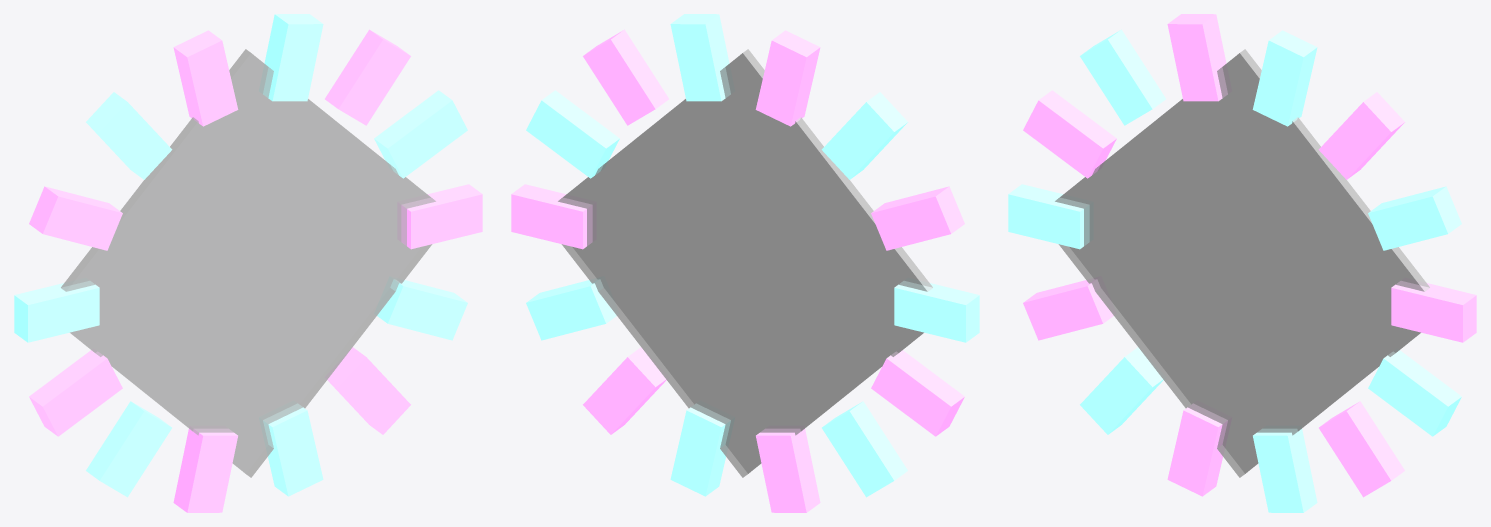
The model's file is FXPortal.fbx.
3 views of the same model, side by side, from view 1: azimuth 30°, elevation 25°; view 2: azimuth 150°, elevation 25°; view 3: azimuth 330°, elevation 25° (orthographic).
Visible parts, largest first — view 1: FX Portal_body_14, FX Portal_body_8, FX Portal_body_1, FX Portal_body_3, FX Portal_body_10, FX Portal_body_2, FX Portal_body_9, FX Portal_body_7, FX Portal_body_0, FX Portal_body_4, FX Portal_body_11, FX Portal_body_6 (+3 smaller); view 2: FX Portal_body_14, FX Portal_body_8, FX Portal_body_1, FX Portal_body_3, FX Portal_body_10, FX Portal_body_2, FX Portal_body_9, FX Portal_body_7, FX Portal_body_0, FX Portal_body_4, FX Portal_body_11, FX Portal_body_6 (+3 smaller); view 3: FX Portal_body_14, FX Portal_body_13, FX Portal_body_6, FX Portal_body_4, FX Portal_body_11, FX Portal_body_12, FX Portal_body_5, FX Portal_body_0, FX Portal_body_7, FX Portal_body_3, FX Portal_body_10, FX Portal_body_1 (+3 smaller).
Part boxes in pixels (x1,y1,x2,y2): FX Portal_body_14: (61, 49, 435, 477); FX Portal_body_8: (29, 349, 122, 436); FX Portal_body_1: (374, 90, 467, 178); FX Portal_body_3: (259, 14, 323, 101); FX Portal_body_10: (173, 426, 237, 512); FX Portal_body_2: (325, 29, 410, 125); FX Portal_body_9: (86, 401, 171, 497); FX Portal_body_7: (14, 278, 99, 342); FX Portal_body_0: (398, 184, 482, 249); FX Portal_body_4: (173, 30, 238, 126); FX Portal_body_11: (259, 401, 323, 496); FX Portal_body_6: (29, 186, 122, 250); FX Portal_body_14: (558, 49, 932, 477); FX Portal_body_8: (871, 349, 964, 436); FX Portal_body_1: (526, 90, 619, 178); FX Portal_body_3: (670, 14, 734, 101); FX Portal_body_10: (756, 426, 820, 512); FX Portal_body_2: (583, 29, 668, 125); FX Portal_body_9: (822, 401, 907, 497); FX Portal_body_7: (894, 278, 979, 342); FX Portal_body_0: (511, 184, 595, 249); FX Portal_body_4: (755, 30, 820, 126); FX Portal_body_11: (670, 401, 734, 496); FX Portal_body_6: (871, 186, 964, 250); FX Portal_body_14: (1055, 49, 1429, 477); FX Portal_body_13: (1368, 349, 1461, 436); FX Portal_body_6: (1023, 90, 1116, 178); FX Portal_body_4: (1167, 14, 1231, 101); FX Portal_body_11: (1253, 426, 1317, 512); FX Portal_body_12: (1319, 401, 1404, 497); FX Portal_body_5: (1080, 29, 1165, 125); FX Portal_body_0: (1391, 278, 1476, 342); FX Portal_body_7: (1008, 184, 1092, 249); FX Portal_body_3: (1252, 30, 1317, 126); FX Portal_body_10: (1167, 401, 1231, 496); FX Portal_body_1: (1368, 186, 1461, 250).
Size of the model in its own units: 380 by 377 by 20.
